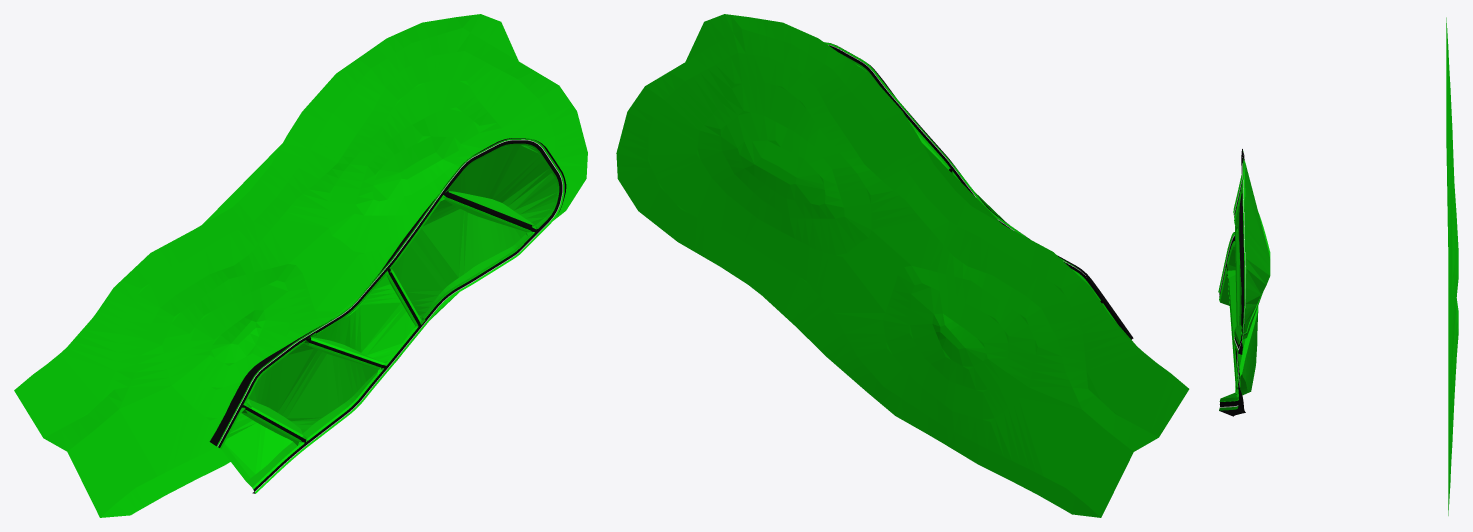
File: subdivision-2.0.gltf
The picture shows the model from 3 angles, left to right: view 1: azimuth 30°, elevation 25°; view 2: azimuth 150°, elevation 25°; view 3: azimuth 270°, elevation 25°; orthographic projection. The views are drawn at different scales.
Parts seen in each view (by area): view 1: LandXML Surface :EG, LandXML Surface :FG; view 2: LandXML Surface :EG, LandXML Surface :FG; view 3: LandXML Surface :FG, LandXML Surface :EG.
Part boxes in pixels (x1,y1,x2,y2): LandXML Surface :EG: (14, 14, 587, 517); LandXML Surface :FG: (209, 138, 566, 493); LandXML Surface :EG: (616, 14, 1189, 517); LandXML Surface :FG: (824, 42, 1133, 339); LandXML Surface :FG: (1218, 149, 1270, 416); LandXML Surface :EG: (1446, 17, 1458, 515).
Size of the model in its own units: 1539 by 1081 by 358.
